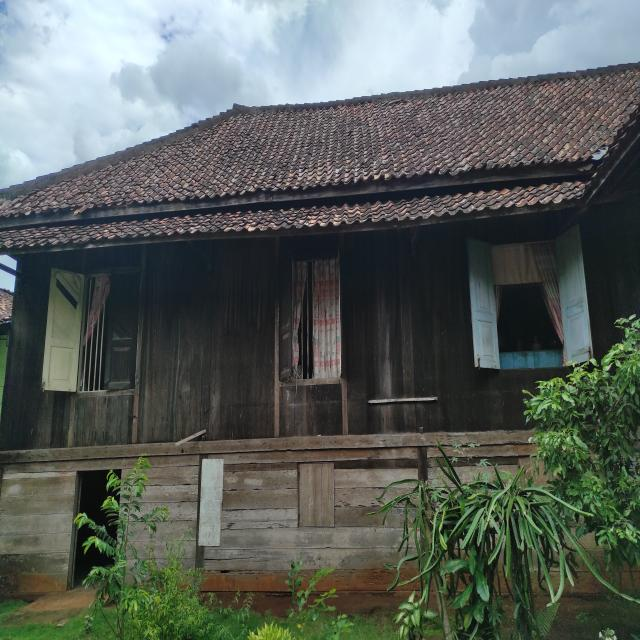Pintu: (66, 469, 122, 591)
